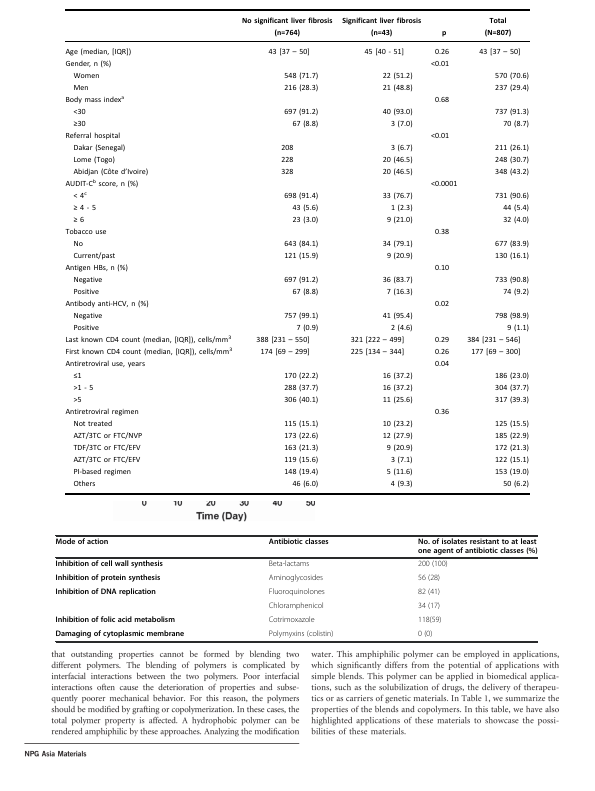borderless: (65, 8, 529, 493), (54, 534, 537, 641)
cell: (417, 538, 538, 556), (241, 16, 333, 37), (65, 346, 233, 357), (65, 334, 232, 345), (341, 16, 422, 37), (55, 630, 185, 640), (55, 616, 176, 626), (55, 560, 164, 570), (55, 574, 161, 584), (55, 588, 157, 598), (65, 178, 139, 189), (65, 300, 150, 309), (65, 360, 146, 369), (72, 455, 141, 465), (73, 168, 149, 177), (65, 408, 140, 417), (65, 94, 125, 105), (268, 630, 334, 640), (72, 432, 143, 441), (72, 444, 142, 453), (65, 48, 132, 57), (484, 16, 512, 37), (268, 588, 326, 598), (65, 264, 129, 273), (268, 574, 324, 584), (268, 602, 324, 612), (268, 538, 330, 547), (72, 468, 132, 477), (65, 132, 121, 141), (255, 336, 311, 345), (350, 336, 405, 345), (466, 336, 521, 345), (350, 348, 405, 357), (55, 538, 109, 547), (73, 144, 126, 153), (268, 616, 315, 626), (259, 348, 311, 357), (470, 348, 521, 357), (65, 60, 112, 69), (268, 560, 310, 570), (72, 419, 113, 429), (268, 48, 311, 57), (478, 48, 521, 57), (73, 156, 116, 165), (65, 228, 108, 237), (73, 252, 116, 261), (364, 48, 405, 57), (283, 311, 319, 321), (494, 311, 530, 321), (283, 419, 319, 429), (494, 419, 530, 429), (283, 455, 319, 465), (494, 455, 530, 465), (283, 72, 319, 81), (494, 72, 530, 81), (283, 84, 319, 93), (494, 84, 530, 93), (283, 108, 319, 117), (494, 108, 530, 117), (494, 144, 530, 153), (494, 156, 530, 165), (494, 168, 530, 177), (283, 192, 319, 201), (494, 192, 530, 201), (283, 240, 319, 249), (494, 240, 530, 249), (283, 252, 319, 261), (494, 252, 530, 261), (283, 276, 319, 285), (494, 276, 530, 285), (283, 372, 319, 381), (494, 372, 530, 381), (283, 384, 319, 393), (494, 384, 530, 393), (283, 396, 319, 405), (494, 396, 530, 405), (283, 432, 319, 441), (494, 432, 530, 441), (283, 444, 319, 453), (494, 444, 530, 453), (283, 468, 319, 477), (494, 468, 530, 477), (382, 311, 414, 321), (382, 419, 414, 429), (72, 311, 103, 321), (417, 560, 448, 570), (382, 72, 414, 81), (382, 84, 414, 93), (382, 108, 414, 117), (382, 156, 414, 165), (382, 168, 414, 177), (382, 192, 414, 201), (382, 240, 414, 249), (382, 276, 414, 285), (382, 372, 414, 381), (382, 384, 414, 393), (382, 396, 414, 405), (382, 432, 414, 441), (72, 276, 103, 285), (291, 120, 319, 129), (502, 120, 530, 129), (430, 180, 458, 189), (291, 204, 319, 213), (502, 204, 530, 213), (291, 216, 319, 225), (386, 216, 414, 225), (502, 216, 530, 225), (386, 252, 414, 261), (72, 288, 100, 297), (291, 288, 319, 297), (386, 288, 414, 297), (502, 288, 530, 297), (72, 324, 100, 333), (386, 444, 414, 453), (386, 468, 414, 477), (291, 480, 319, 489), (502, 480, 530, 489), (417, 616, 442, 626), (73, 72, 100, 81), (390, 455, 414, 465), (417, 574, 441, 584), (417, 588, 441, 598), (417, 602, 441, 612), (72, 204, 97, 213), (72, 480, 97, 489), (390, 120, 414, 129), (390, 144, 414, 153), (390, 204, 414, 213), (390, 324, 414, 333), (506, 324, 530, 333), (390, 480, 414, 489), (296, 324, 319, 333), (73, 384, 94, 393), (430, 60, 450, 69), (430, 132, 450, 141), (72, 190, 88, 201), (417, 630, 433, 640), (73, 84, 90, 93), (434, 48, 450, 57), (434, 96, 450, 105), (434, 228, 450, 237), (434, 264, 450, 273), (434, 300, 450, 309), (434, 336, 450, 345), (434, 348, 450, 357), (434, 360, 450, 369), (434, 408, 450, 417), (73, 108, 87, 117), (73, 120, 87, 129), (280, 144, 294, 153), (280, 156, 294, 165), (280, 168, 294, 177), (73, 216, 85, 225), (73, 240, 84, 249), (72, 396, 83, 405), (73, 372, 83, 381), (441, 28, 447, 37)
